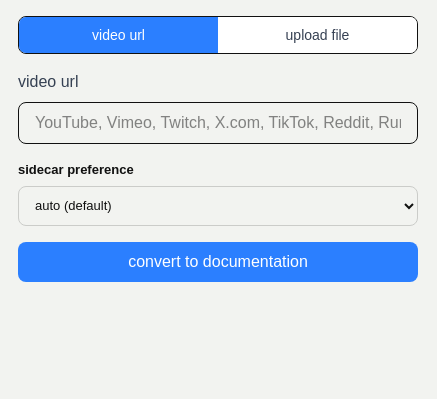
Test case: VideoSubmission › shows a duplicate warning on 409 instead of navigating
The width and height of the screenshot is (437, 399).
Type "https://www.youtube.com/watch?v=dQw4w9WgXcQ" into the field with placeholder "YouTube, Vimeo". click: (218, 123)
box: [18,102,418,144]
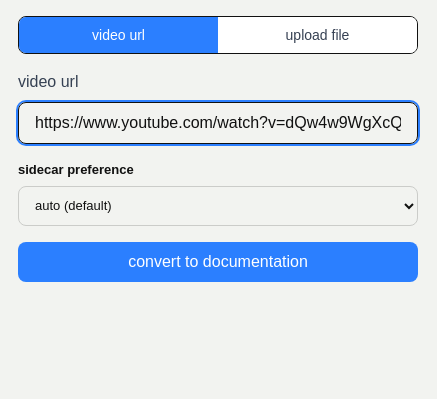
Click the button "convert to documentation". click: click(218, 262)
box: [18,242,418,282]
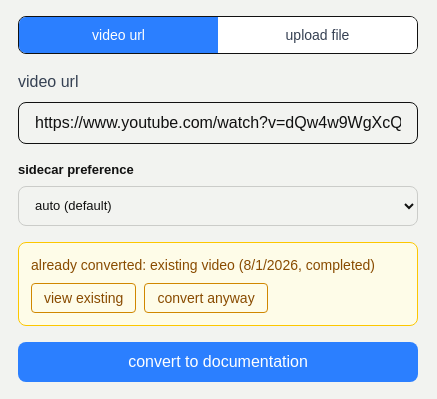
Check: the element with test id "duplicate-warning" is shown, box [18,242,418,326]
Check: the text "already converted: Existing Video (8/1/2026, completed)" is shown, box [31,254,405,274]
